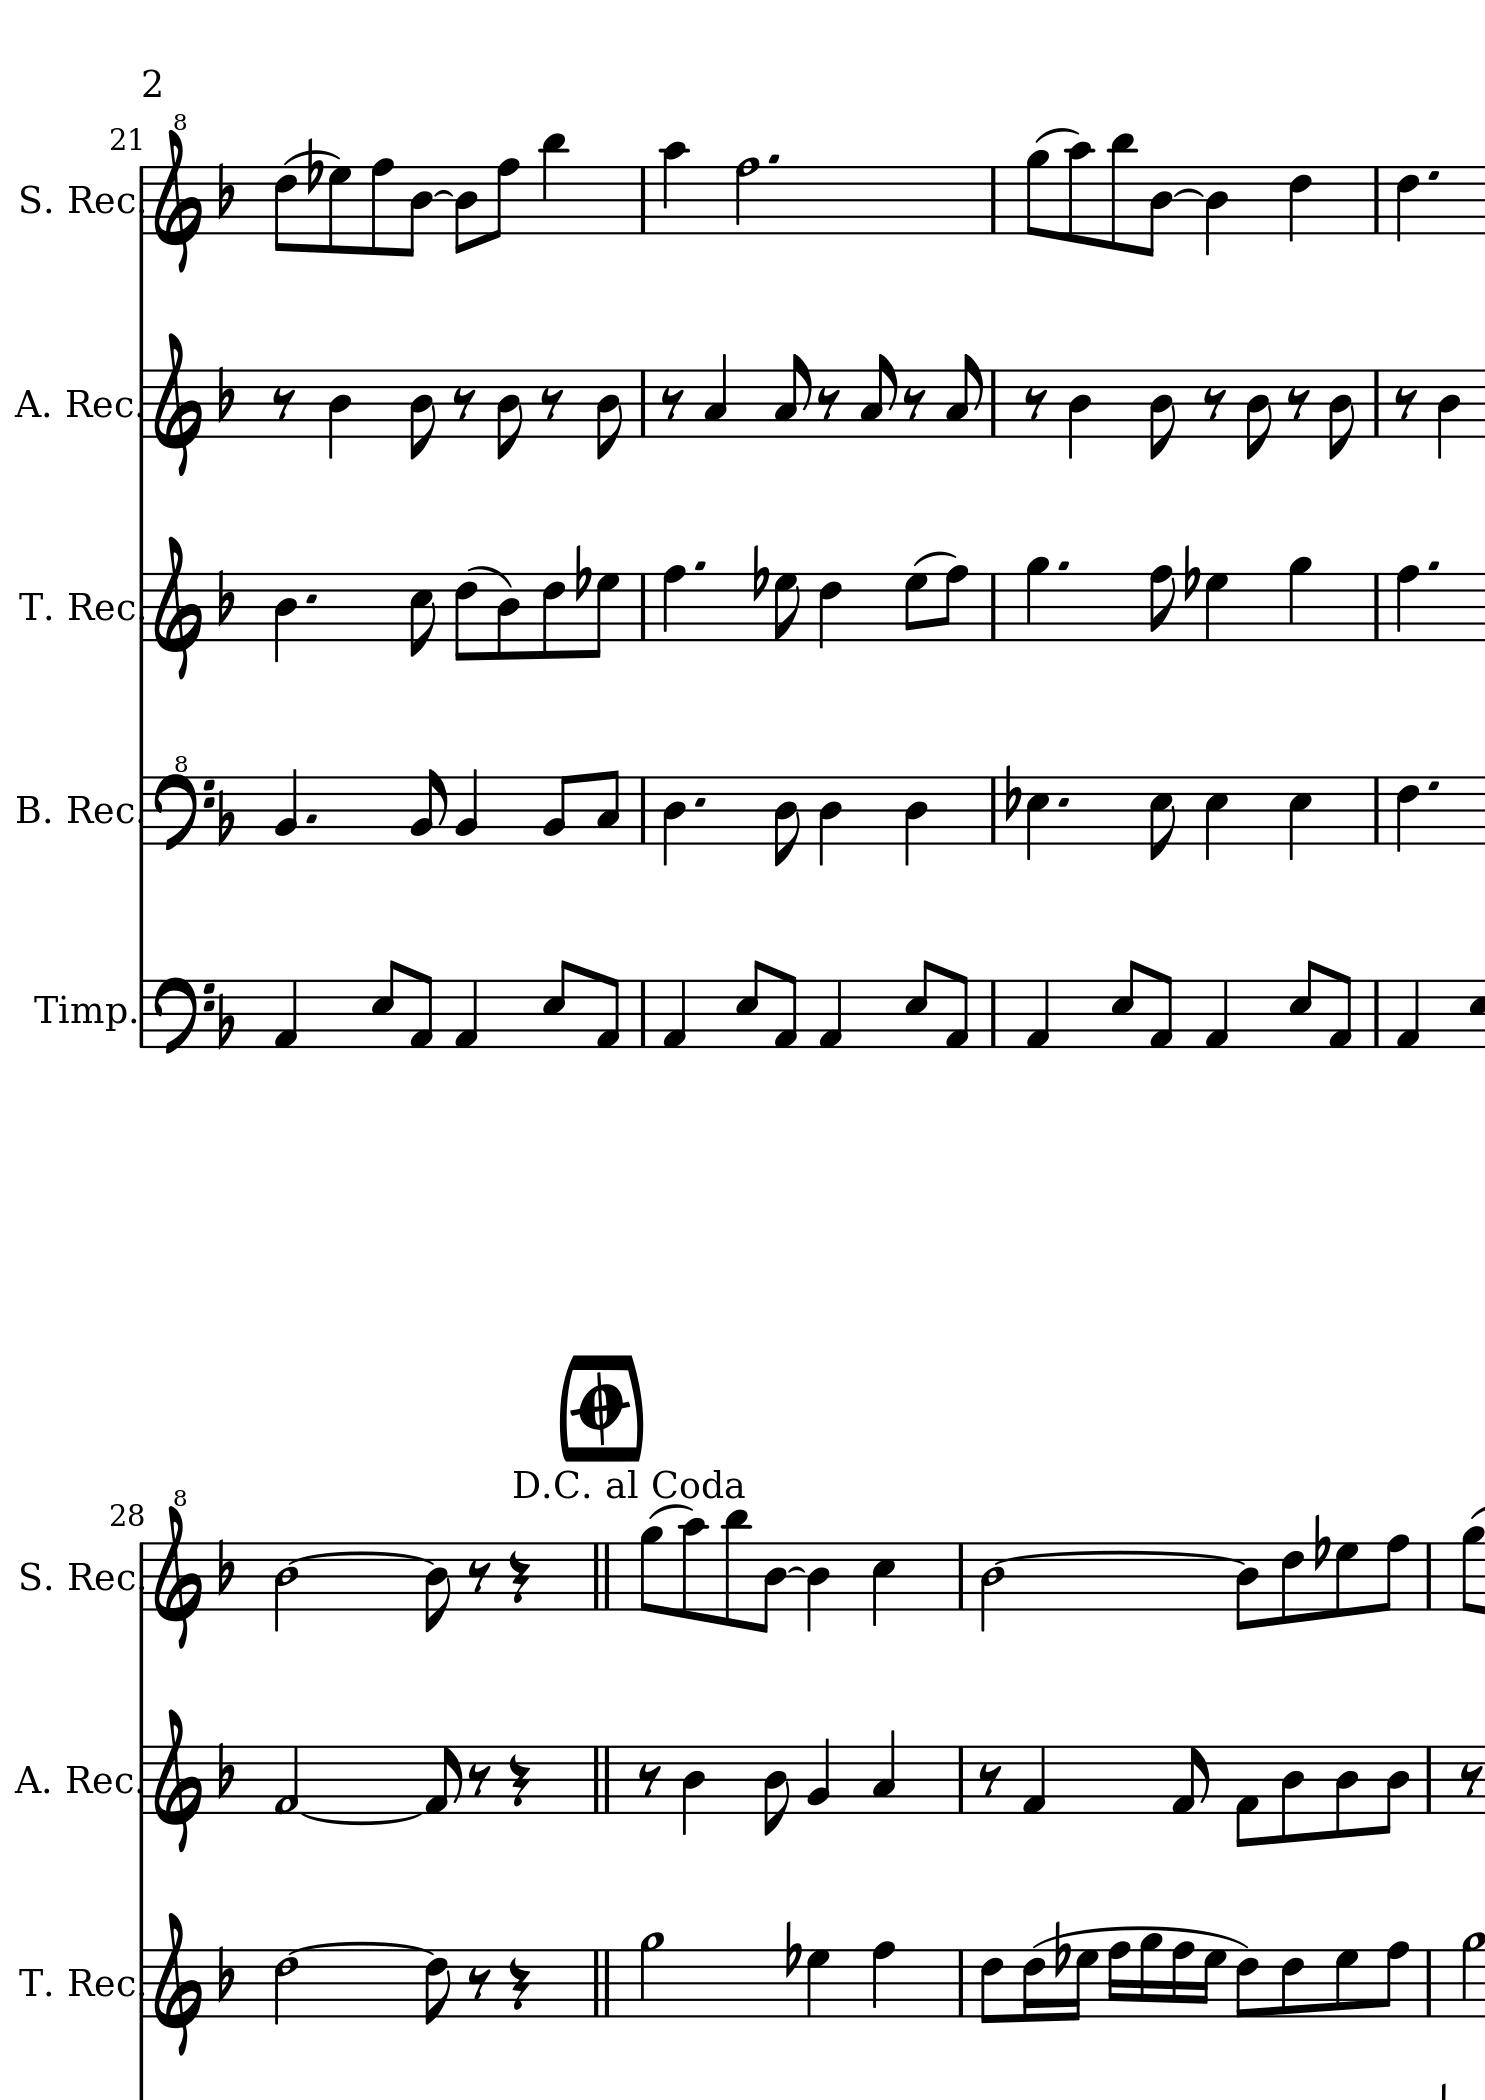1: (127, 125, 141, 154)
16_6: (1021, 1947, 1045, 2024)
16_7: (1064, 1947, 1098, 2024), (1196, 1947, 1225, 2020)
16_8: (1106, 1938, 1130, 2020), (1168, 1939, 1192, 2020)
16_9: (1136, 1931, 1162, 2020)
2: (138, 67, 162, 100), (108, 125, 125, 154), (108, 1502, 125, 1528)
2_1: (272, 1745, 301, 1816)
2_4: (977, 1541, 1004, 1634), (272, 1541, 299, 1632)
2_6: (272, 1947, 301, 2026)
2_8: (731, 156, 759, 236)
2_9: (636, 1931, 664, 2020), (1458, 1930, 1483, 2020)
4_1: (816, 977, 844, 1051), (270, 979, 297, 1051), (659, 979, 686, 1051), (1202, 979, 1229, 1051), (1393, 979, 1421, 1051), (1019, 1743, 1046, 1816), (452, 979, 477, 1051), (1024, 979, 1049, 1051)
4_10: (659, 141, 689, 236)
4_11: (538, 132, 566, 238)
4_2: (453, 768, 479, 847), (273, 766, 297, 847), (805, 1737, 829, 1814)
4_3: (702, 353, 728, 440), (869, 1729, 895, 1816)
4_4: (1201, 165, 1228, 259), (1434, 368, 1459, 463), (902, 774, 927, 869), (678, 1743, 704, 1838), (272, 570, 297, 664), (804, 1542, 829, 1636), (1066, 370, 1091, 461), (326, 368, 350, 461), (816, 774, 841, 868), (661, 776, 685, 868)
4_5: (1201, 776, 1228, 861), (1024, 774, 1049, 864), (1286, 774, 1311, 864), (869, 1541, 895, 1629)
4_6: (1286, 165, 1311, 246), (816, 570, 842, 649), (1393, 774, 1417, 855), (1393, 165, 1417, 244)
4_7: (804, 1947, 831, 2020), (1204, 570, 1228, 643)
4_8: (1392, 562, 1419, 644), (869, 1939, 895, 2020), (661, 564, 685, 643)
4_9: (1024, 554, 1049, 644), (1286, 554, 1311, 644)
8: (125, 1501, 145, 1530)
8_1: (1168, 1743, 1210, 1817), (423, 1743, 461, 1816), (1233, 1743, 1258, 1851), (942, 972, 969, 1051), (1324, 972, 1352, 1051), (771, 970, 797, 1052), (1146, 970, 1172, 1051), (591, 975, 619, 1051), (407, 972, 432, 1051)
8_10: (678, 1517, 709, 1623), (1064, 141, 1094, 246)
8_11: (720, 1509, 751, 1631), (1106, 133, 1136, 254)
8_2: (410, 768, 448, 845), (540, 773, 572, 847)
8_3: (857, 353, 895, 439), (943, 353, 982, 439), (775, 352, 812, 439), (595, 768, 619, 847)
8_4: (1376, 1743, 1409, 1836), (400, 165, 432, 260), (1139, 165, 1172, 260), (754, 1541, 784, 1636), (760, 1743, 789, 1840), (1242, 368, 1271, 463), (1324, 368, 1353, 463), (1146, 368, 1173, 464), (1278, 1743, 1303, 1845), (493, 368, 521, 463), (771, 774, 799, 869), (423, 1541, 450, 1634), (1332, 1743, 1358, 1841), (493, 570, 521, 660), (408, 368, 434, 463), (595, 370, 620, 463), (452, 165, 477, 257), (1233, 1541, 1258, 1632)
8_5: (538, 958, 571, 1051), (731, 958, 763, 1051), (902, 958, 934, 1051), (1107, 958, 1139, 1051), (368, 959, 400, 1051), (1286, 958, 1316, 1051), (408, 570, 436, 659), (1147, 774, 1173, 861)
8_6: (452, 572, 477, 664), (538, 572, 564, 662), (423, 1947, 450, 2028), (272, 165, 296, 255), (1278, 1541, 1302, 1628), (979, 1947, 1003, 2026), (1233, 1947, 1258, 2020), (1278, 1947, 1303, 2020)
8_7: (583, 570, 619, 660), (326, 164, 352, 257), (1332, 1541, 1358, 1620), (771, 570, 799, 643), (902, 570, 927, 643), (1332, 1947, 1358, 2020)
8_8: (1374, 1533, 1409, 1613), (1376, 1939, 1409, 2020), (368, 156, 394, 257), (937, 562, 969, 643), (489, 156, 519, 239), (1147, 564, 1173, 643)
8_9: (1024, 149, 1048, 239), (638, 1526, 662, 1615), (1459, 1525, 1482, 1616)
Coda: (574, 1371, 627, 1443)
DCalCoda: (508, 1464, 742, 1509)
Double_barline: (588, 1949, 614, 2016), (588, 1745, 612, 1816), (588, 1542, 612, 1610)
Fclef: (149, 975, 214, 1056)
Flat: (214, 569, 236, 627), (571, 541, 591, 603), (214, 161, 235, 220), (214, 365, 235, 424), (214, 1536, 235, 1595), (214, 1740, 235, 1800), (214, 1944, 235, 2002), (749, 543, 768, 603), (1180, 543, 1199, 603), (215, 786, 235, 845), (215, 991, 235, 1051), (1310, 1512, 1329, 1571), (1049, 1918, 1069, 1978), (1001, 763, 1021, 821), (783, 1918, 800, 1979), (304, 140, 321, 196)
Gclef: (153, 333, 202, 480), (153, 1708, 202, 1856), (153, 1910, 202, 2058), (153, 535, 202, 681)
High_Fclef: (153, 755, 212, 852)
High_Gclef: (153, 1486, 206, 1649), (151, 108, 202, 275)
Rec: (64, 590, 137, 623), (63, 387, 135, 419), (64, 1967, 137, 1999), (64, 794, 135, 826), (64, 1764, 135, 1796), (66, 185, 137, 215), (66, 1562, 135, 1592)
Rests4: (505, 1751, 529, 1809), (506, 1549, 529, 1605), (506, 1955, 529, 2012)
Rests8: (657, 386, 685, 423), (464, 1963, 492, 2000), (1021, 386, 1048, 421), (464, 1559, 492, 1594), (1201, 386, 1226, 423), (450, 386, 476, 421), (270, 386, 296, 419), (538, 386, 564, 419), (635, 1763, 661, 1796), (976, 1763, 1001, 1796), (816, 386, 841, 421), (902, 386, 926, 421), (468, 1763, 492, 1798), (1286, 386, 1308, 423), (1393, 387, 1417, 421), (1458, 1763, 1482, 1796)
Single_barline: (951, 1544, 971, 1610), (951, 1951, 971, 2016), (633, 167, 652, 231), (1366, 980, 1384, 1048), (984, 167, 1001, 233), (1368, 167, 1385, 233), (635, 574, 652, 639), (1368, 574, 1385, 639), (1368, 778, 1385, 844), (133, 778, 151, 844), (633, 778, 651, 844), (984, 778, 1001, 844), (633, 982, 651, 1048), (984, 982, 1001, 1048), (951, 1747, 969, 1812), (1419, 1747, 1437, 1812), (1419, 1951, 1437, 2016), (633, 371, 651, 435), (984, 371, 1001, 435), (984, 575, 1001, 639), (133, 982, 149, 1048), (1421, 1542, 1437, 1608), (1368, 371, 1384, 435), (135, 165, 149, 235), (137, 574, 151, 643), (135, 1542, 149, 1612), (135, 1747, 149, 1816), (135, 371, 149, 439), (135, 1951, 149, 2018)
Slur: (992, 1549, 1254, 1567), (289, 1550, 439, 1568), (288, 1941, 439, 1957), (297, 1812, 421, 1827), (280, 146, 341, 165), (466, 566, 514, 590), (644, 1502, 694, 1520), (1032, 127, 1080, 145), (911, 550, 956, 567), (1172, 188, 1204, 199), (786, 1565, 807, 1576), (432, 190, 455, 199)
Timp: (29, 991, 127, 1035)
dot: (1424, 169, 1442, 185), (1053, 558, 1070, 574), (1424, 558, 1442, 574), (1426, 778, 1442, 794), (691, 559, 707, 574), (302, 591, 318, 606), (691, 795, 707, 810), (1054, 795, 1070, 810), (765, 153, 781, 165), (304, 811, 317, 826)
